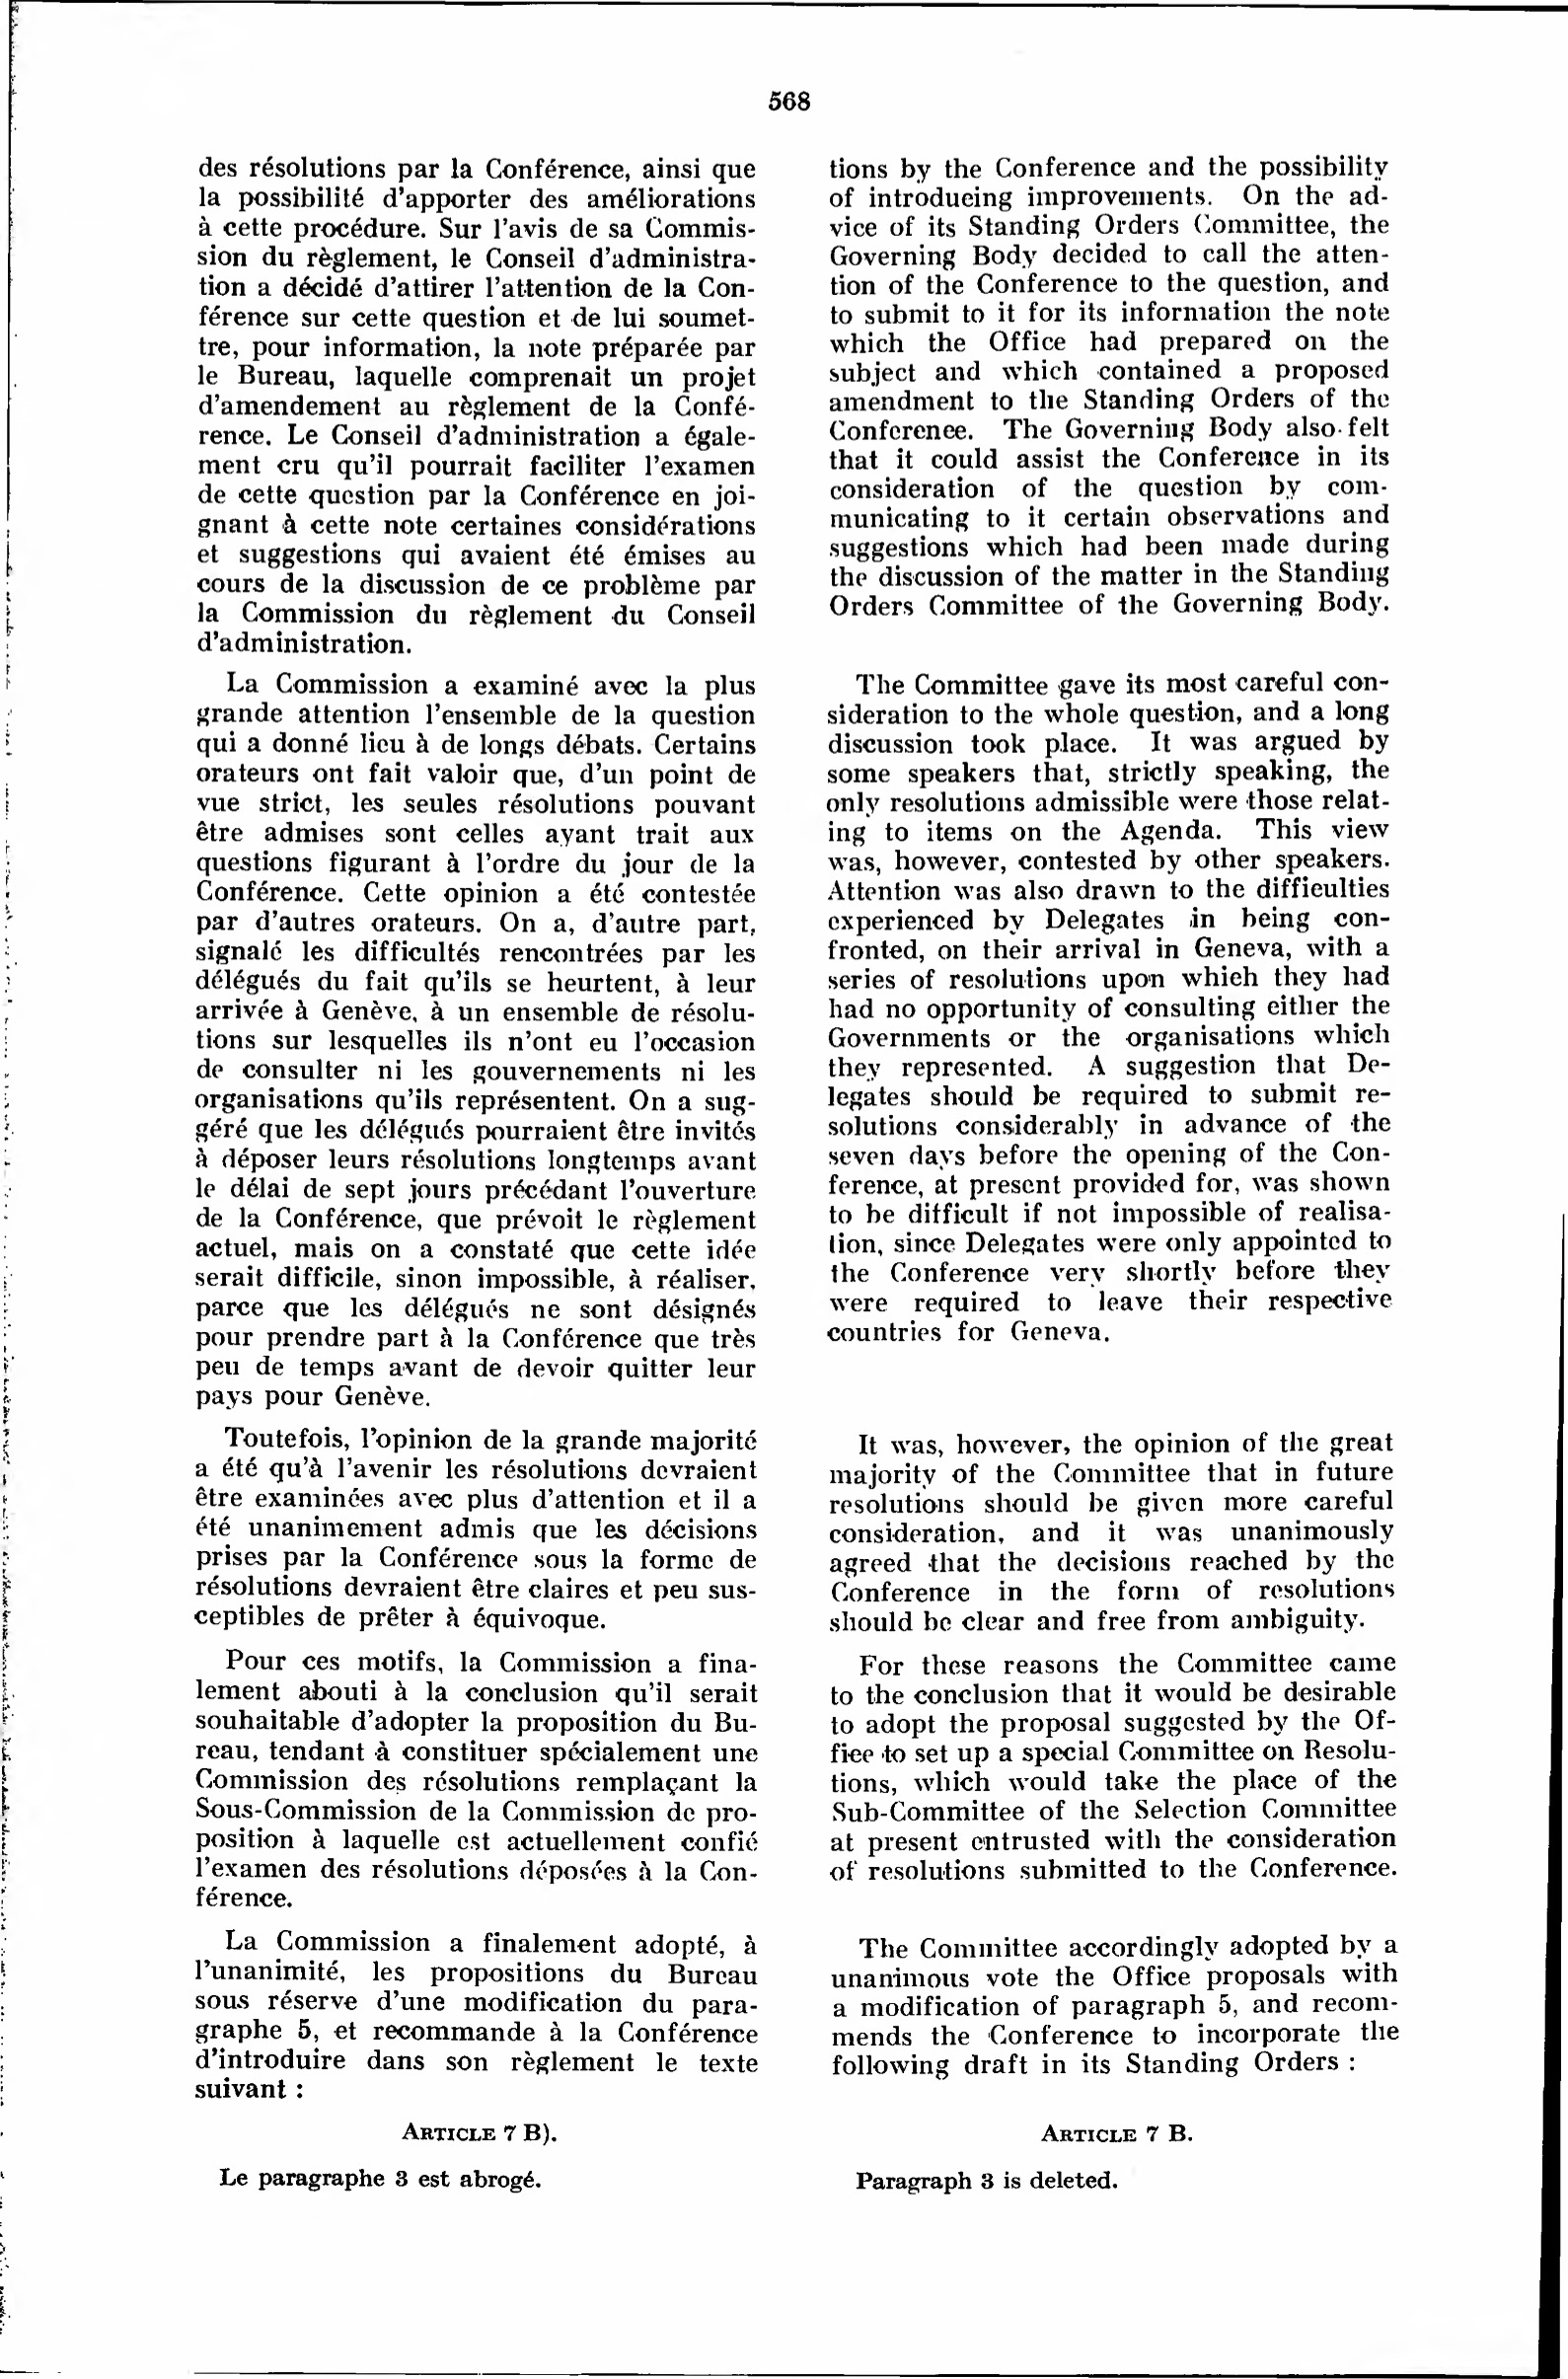MainZone-Continued: (187, 149, 763, 662), (819, 150, 1399, 629)
MainZone-Head: (384, 2114, 569, 2147), (1027, 2116, 1203, 2150)
MainZone-P: (187, 663, 767, 1407), (819, 663, 1399, 1358), (186, 1645, 763, 1915), (822, 1646, 1403, 1895), (820, 1425, 1399, 1638), (186, 1421, 763, 1634), (187, 1925, 765, 2107), (824, 1929, 1406, 2087), (201, 2157, 554, 2198), (842, 2160, 1126, 2198)
TitlePageZone: (758, 81, 818, 125)
